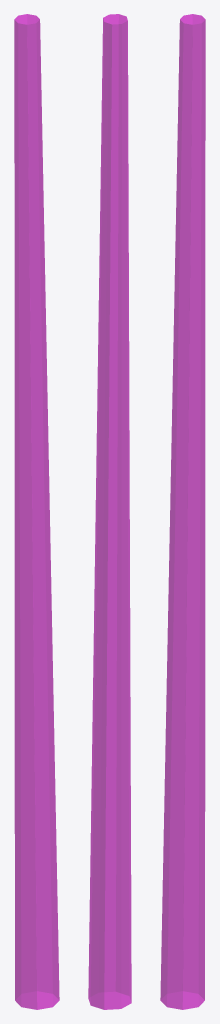
File: SM_Veh_Ship_L_Mast_Back_02_Collision.fbx
3 renders of one model, left to right at view 1: azimuth 90°, elevation 25°; view 2: azimuth 210°, elevation 25°; view 3: azimuth 270°, elevation 25°, orthographic.
Parts seen in each view (by area): view 1: SM_Veh_Ship_L_Mast_Back_02_Collision; view 2: SM_Veh_Ship_L_Mast_Back_02_Collision; view 3: SM_Veh_Ship_L_Mast_Back_02_Collision.
Part boxes in pixels (<box>): SM_Veh_Ship_L_Mast_Back_02_Collision: <box>14,14,59,1009</box>; SM_Veh_Ship_L_Mast_Back_02_Collision: <box>88,14,131,1009</box>; SM_Veh_Ship_L_Mast_Back_02_Collision: <box>160,14,205,1009</box>.
Size of the model in its own units: 110 by 2656 by 111.
